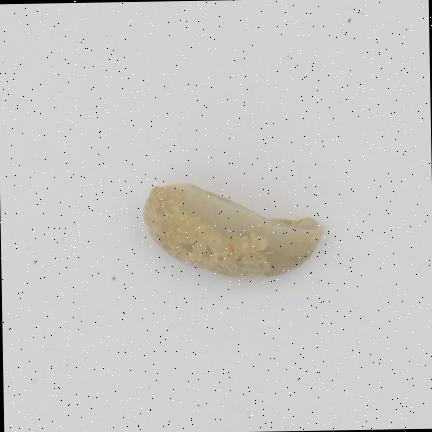shell: (143, 183, 322, 276)
